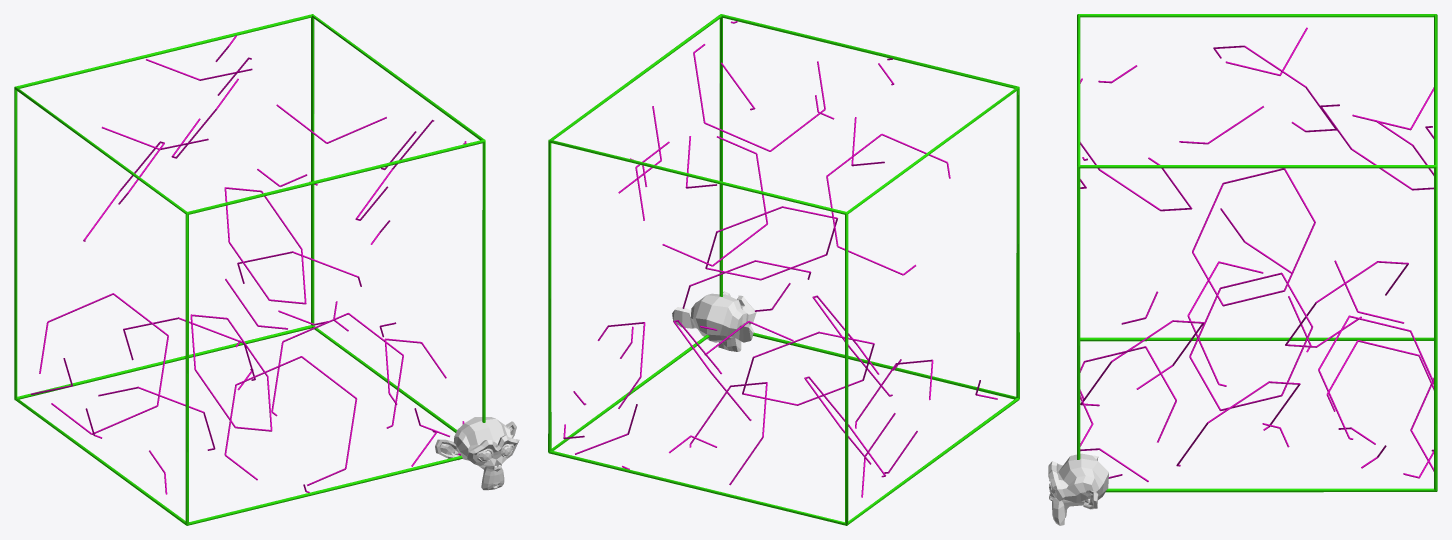
Rendered from DDD_large_project_step0.glb.
3 views of the same model, side by side, from view 1: azimuth 30°, elevation 25°; view 2: azimuth 150°, elevation 25°; view 3: azimuth 270°, elevation 25° (orthographic). The views are drawn at different scales.
Parts seen in each view (by area): view 1: Shape_IndexedLineSet, Shape_IndexedLineSet.001, Suzanne; view 2: Shape_IndexedLineSet, Shape_IndexedLineSet.001, Suzanne; view 3: Shape_IndexedLineSet.001, Shape_IndexedLineSet, Suzanne.
Part boxes in pixels (<box>): Shape_IndexedLineSet: <box>14,14,485,525</box>; Shape_IndexedLineSet.001: <box>30,35,466,494</box>; Suzanne: <box>435,417,519,490</box>; Shape_IndexedLineSet: <box>548,14,1019,525</box>; Shape_IndexedLineSet.001: <box>563,21,997,497</box>; Suzanne: <box>672,291,756,351</box>; Shape_IndexedLineSet.001: <box>1080,27,1433,481</box>; Shape_IndexedLineSet: <box>1077,14,1437,492</box>; Suzanne: <box>1048,453,1108,525</box>.
Size of the model in its own units: 11.42 by 11.03 by 10.9.
